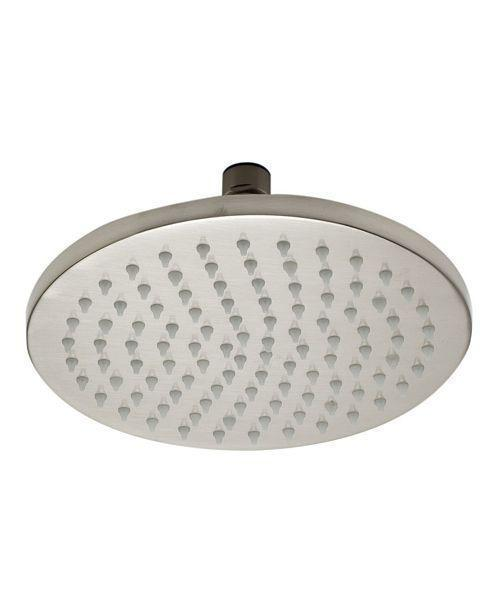Ducha: (21, 145, 484, 440)
